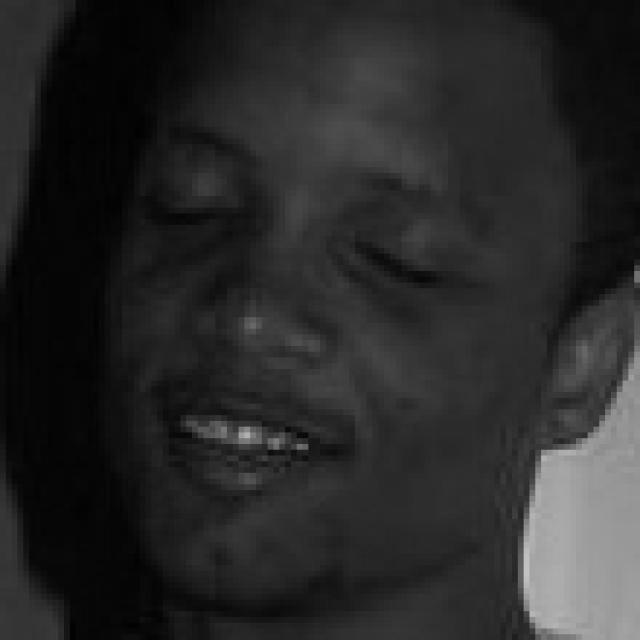real: (93, 52, 571, 612), (142, 154, 502, 300)
